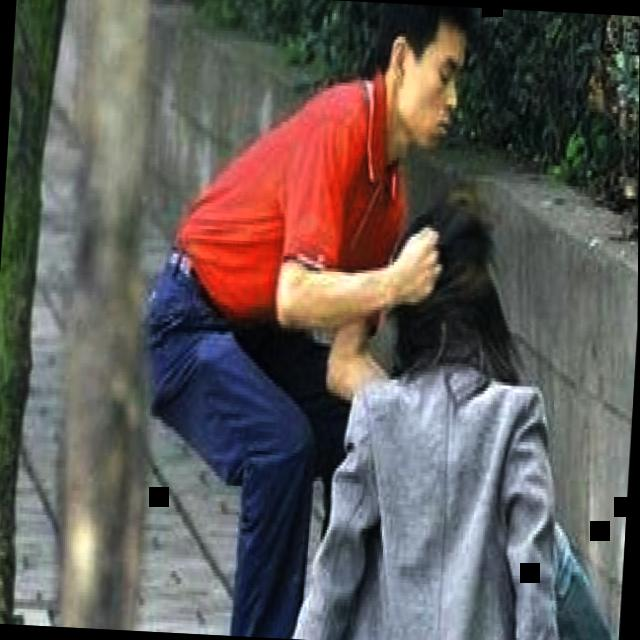Fall-Detected: (273, 182, 637, 640)
